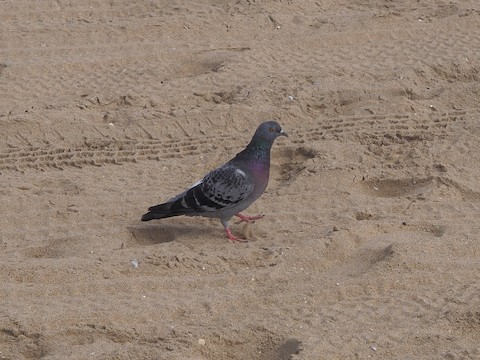pigeon: (140, 112, 290, 246)
